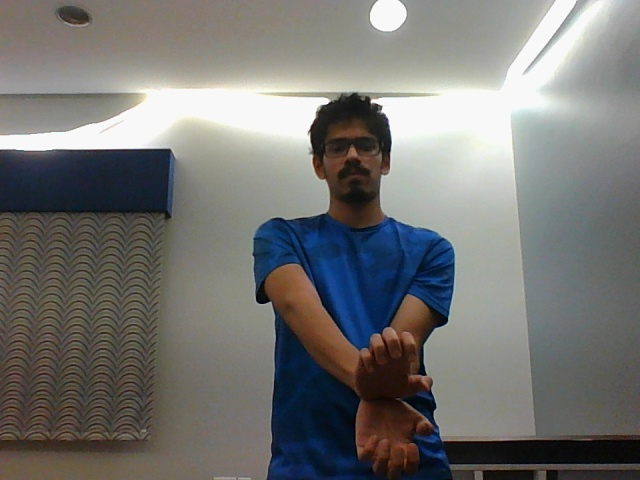blast: (343, 327, 440, 473)
